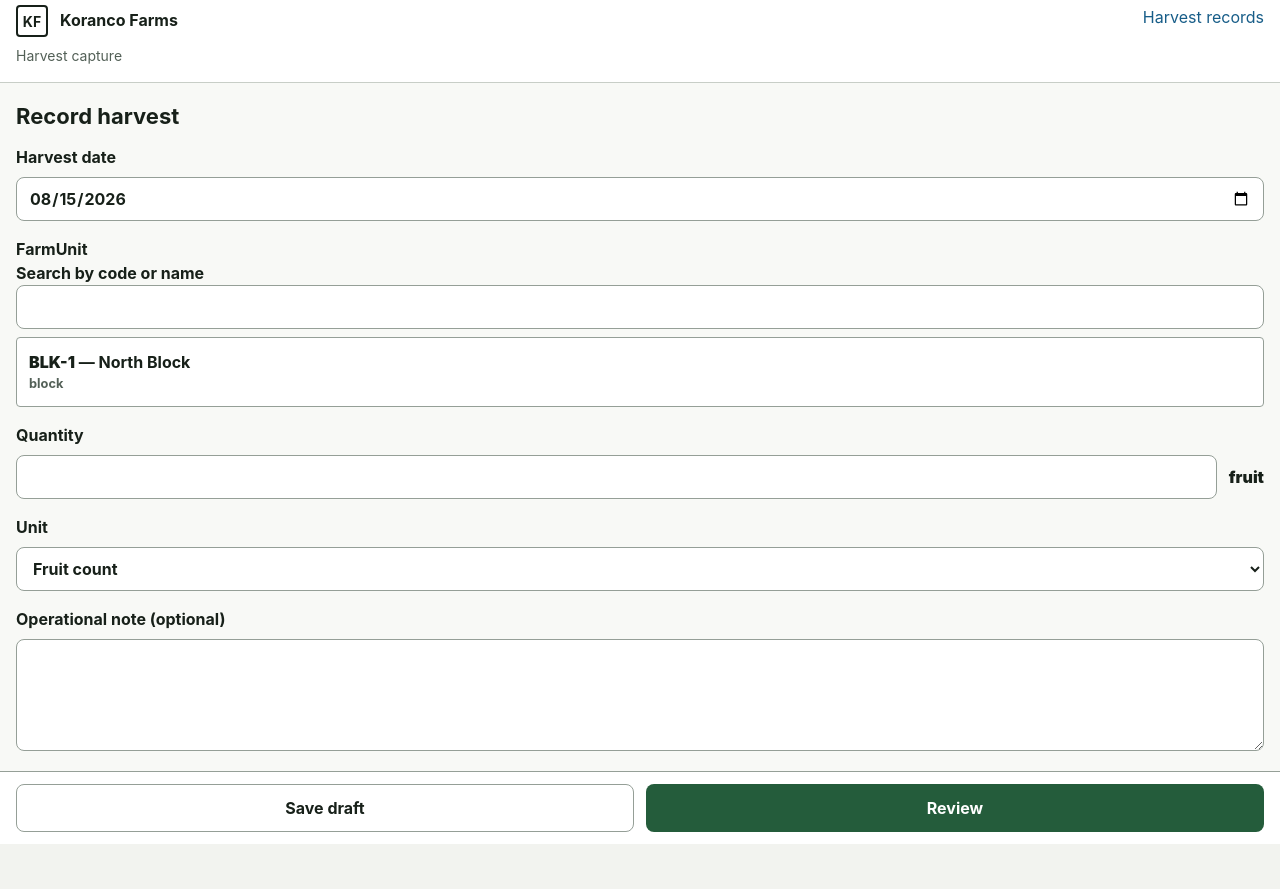
Test: field harvest capture › preserves entered values after a server submission error
Click the button "BLK-1 — North Block block": point(52, 362) [16,337,1264,407]
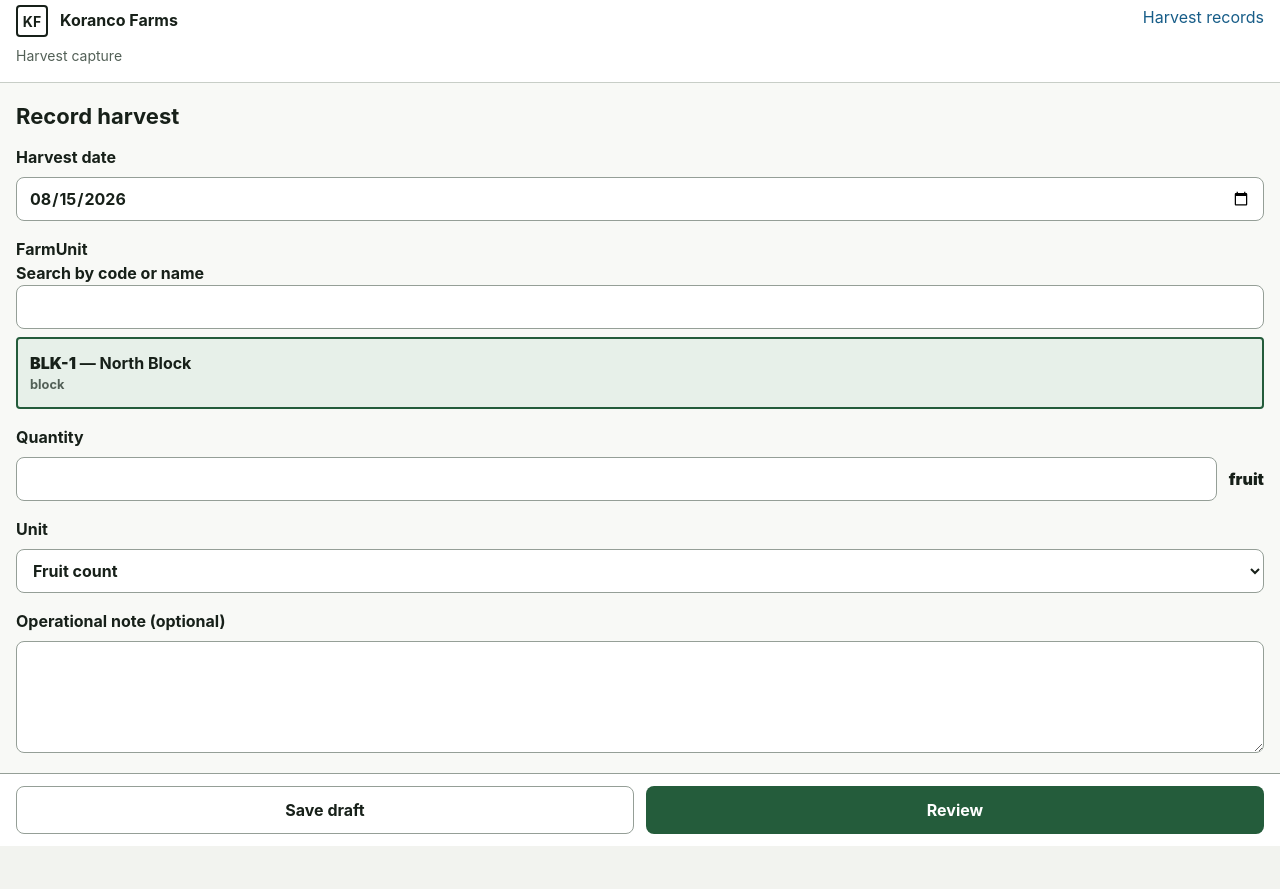
In the number field labelled "Quantity": point(616, 479) [16,457,1217,501], type "18"
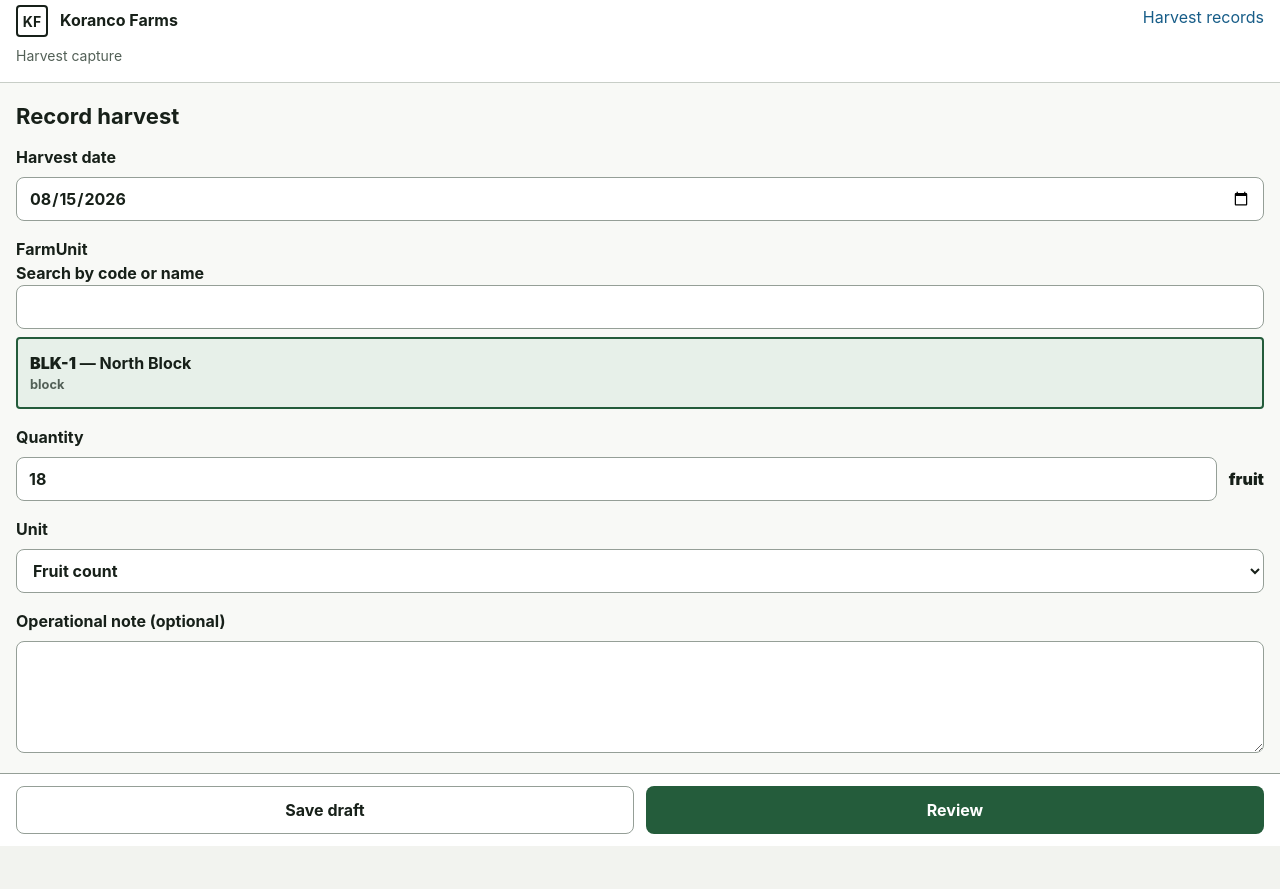
Click the button "Review": point(955, 810) [646,786,1264,834]
(page scrolled)
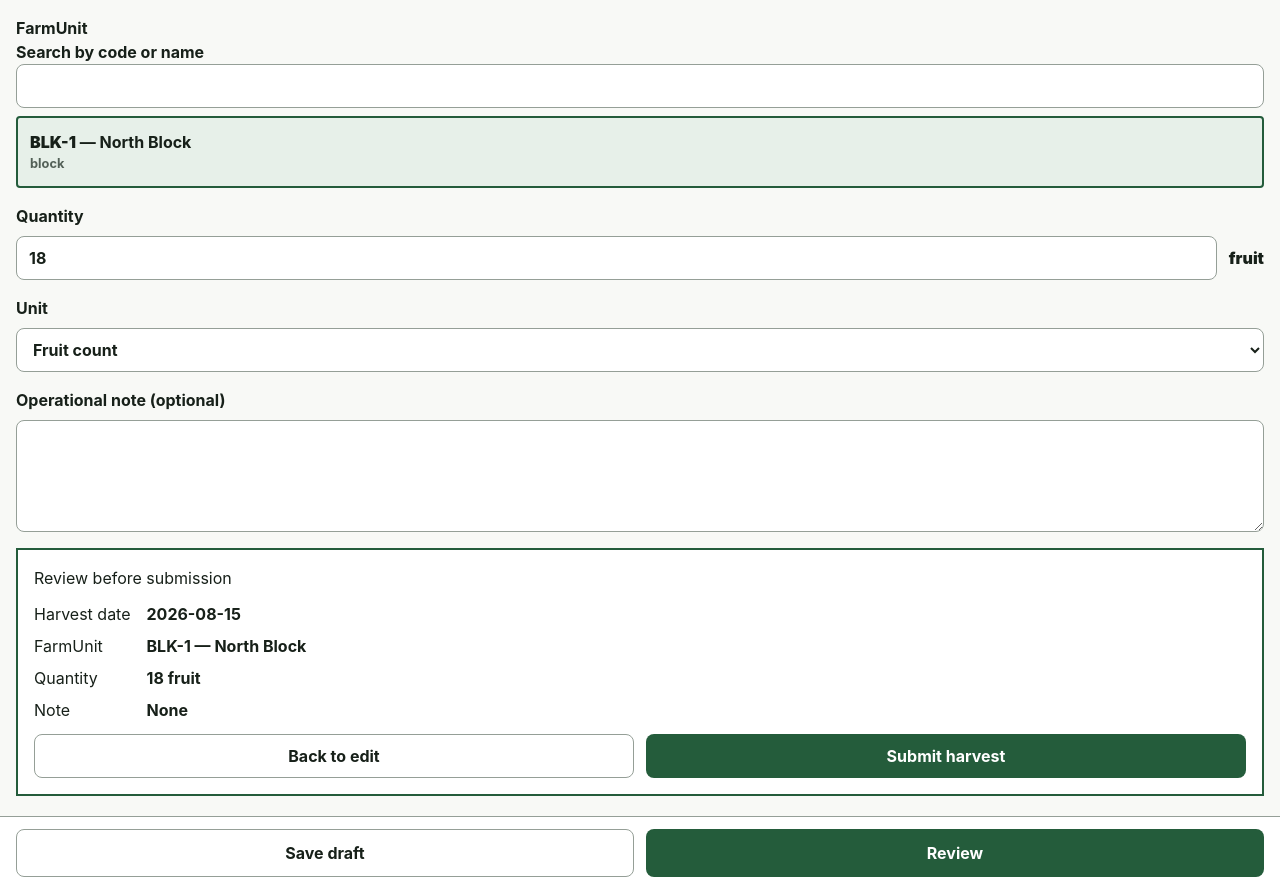
Click the button "Submit harvest": point(946, 756) [646,734,1246,778]
(page scrolled)
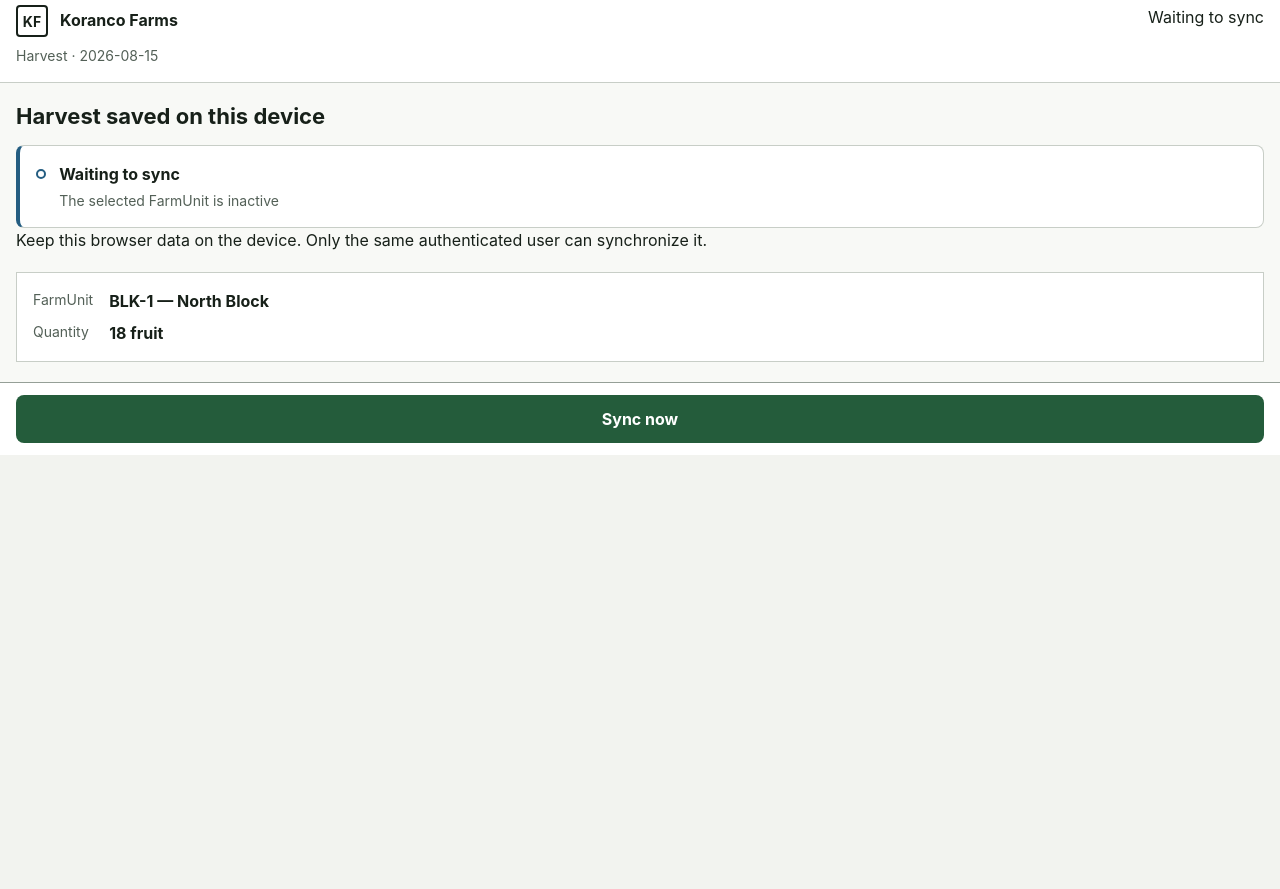
Expected: the text "The selected FarmUnit is inactive" is shown, [59,192,279,209]
